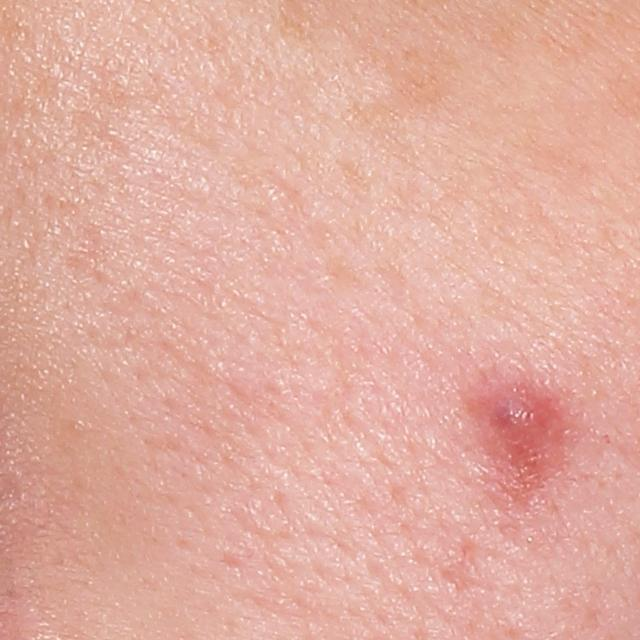melasma: (378, 35, 468, 111)
papule: (482, 389, 552, 448)
